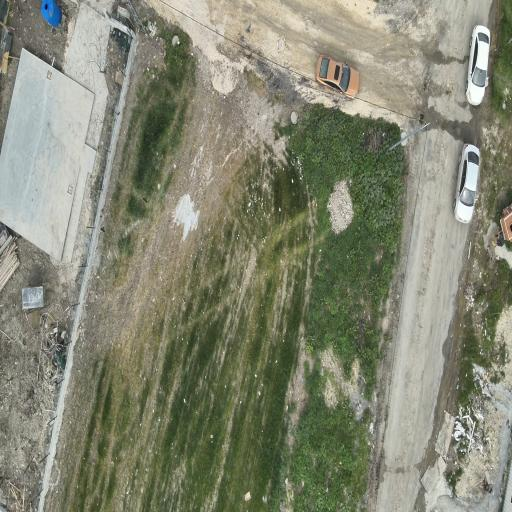car: (454, 143, 479, 222), (466, 25, 490, 104), (316, 54, 359, 98)
person: (497, 232, 505, 247)
